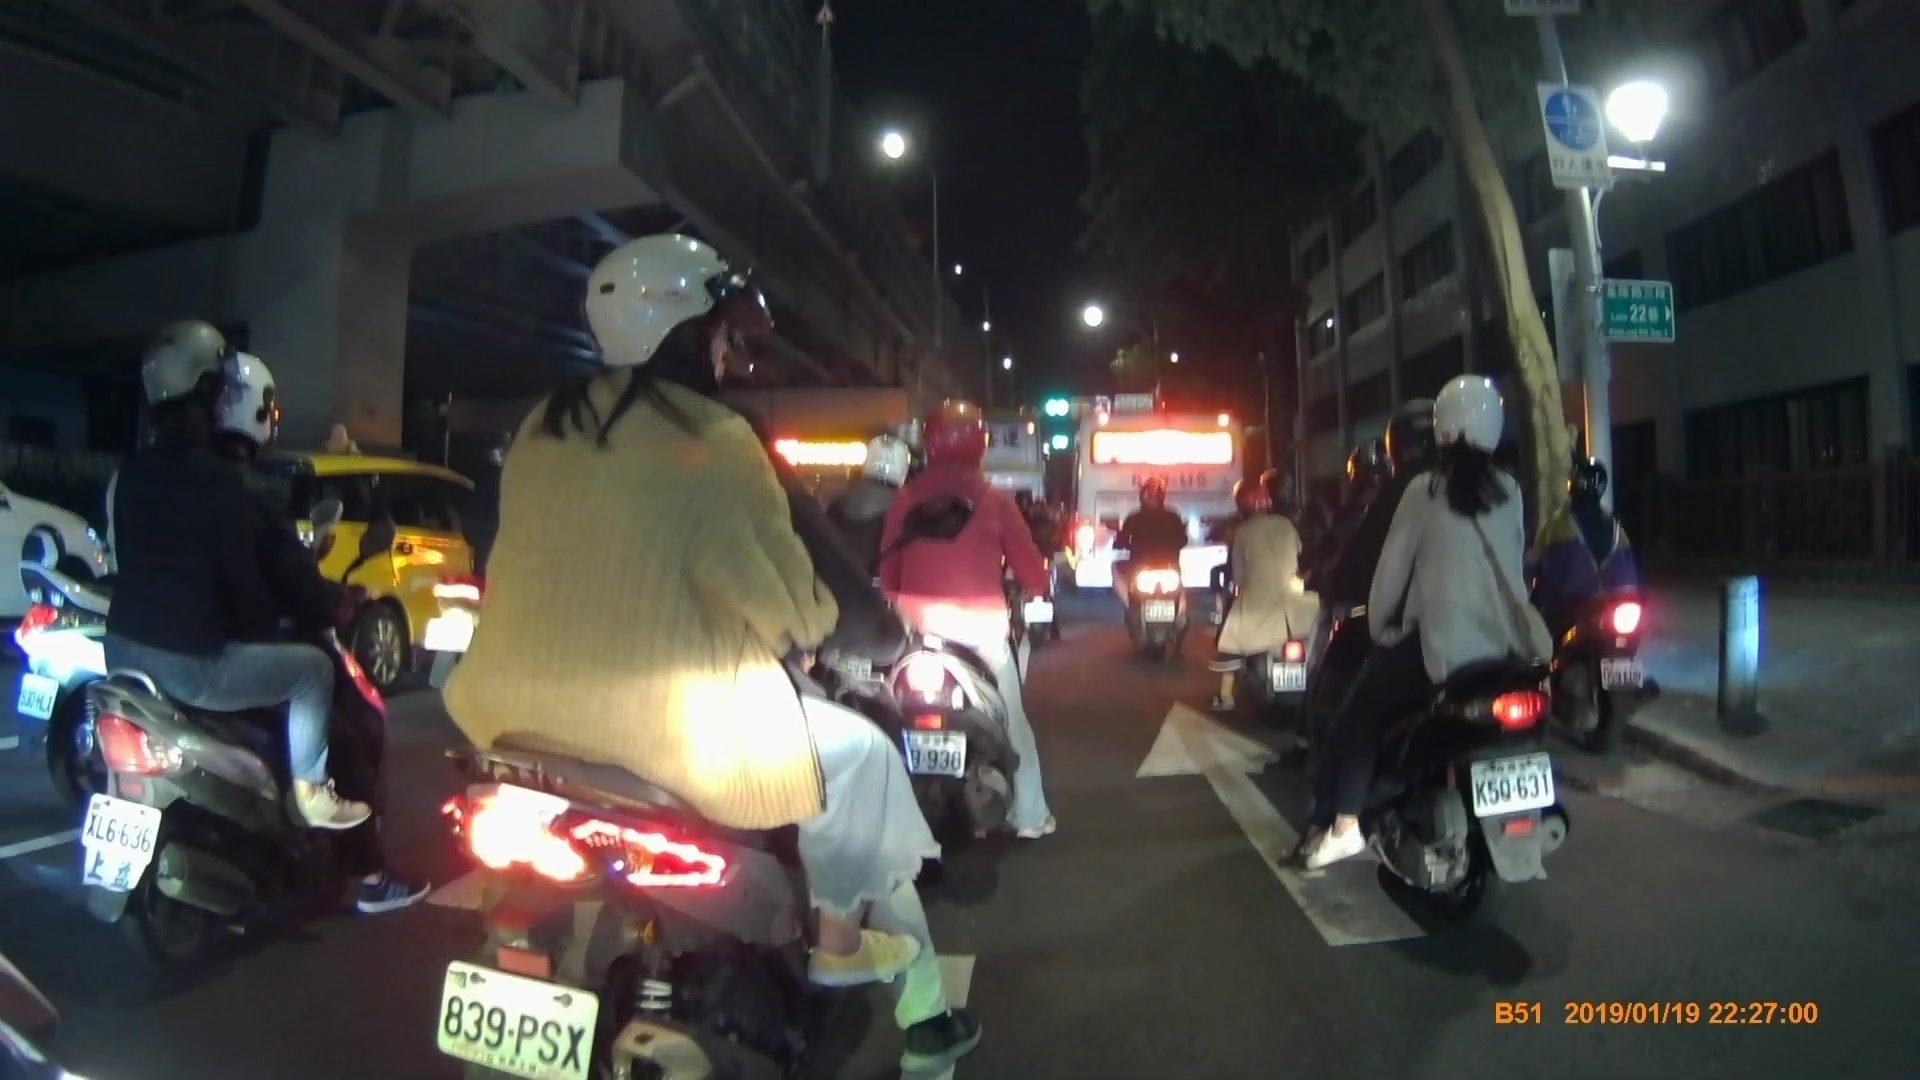License_plate: (435, 960, 602, 1080), (1465, 748, 1558, 818), (78, 791, 161, 866), (900, 727, 970, 775)
